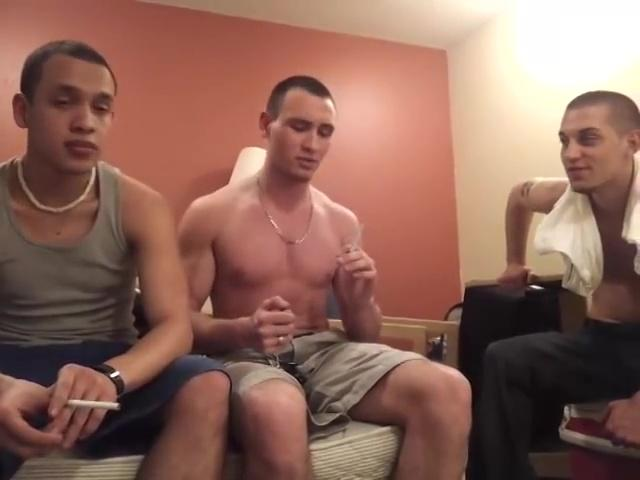cigarette: (65, 399, 124, 413), (346, 220, 370, 254)
